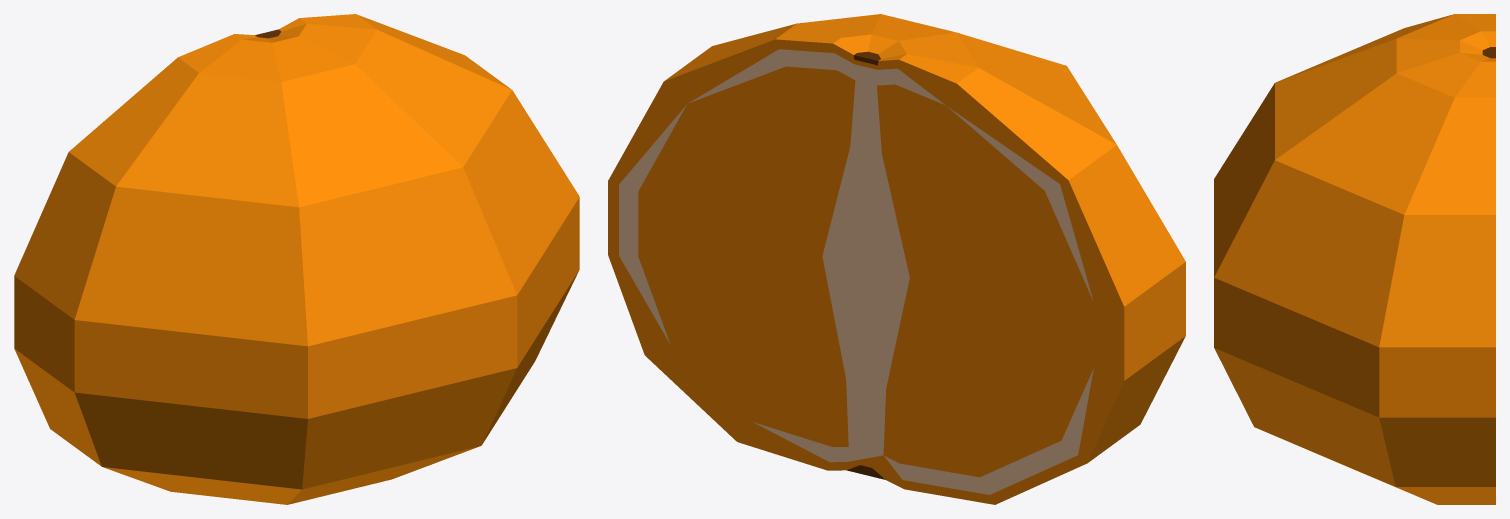
Rendered from clementine02.gltf.
3 views of the same model, side by side, from view 1: azimuth 30°, elevation 25°; view 2: azimuth 150°, elevation 25°; view 3: azimuth 270°, elevation 25° (orthographic). The views are drawn at different scales.
Visible parts, largest first — view 1: Cylinder; view 2: Cylinder; view 3: Cylinder.
Part boxes in pixels (x1,y1,x2,y2): Cylinder: (14, 14, 579, 504); Cylinder: (608, 14, 1185, 504); Cylinder: (1214, 14, 1495, 504).
Bounding box in the file's own units: 0.0574 × 0.0455 × 0.0287.
Materials: 1 (1 with a texture image).
